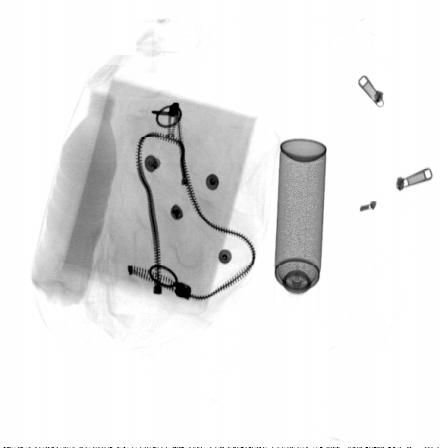Sprayer: (272, 135, 328, 331)
